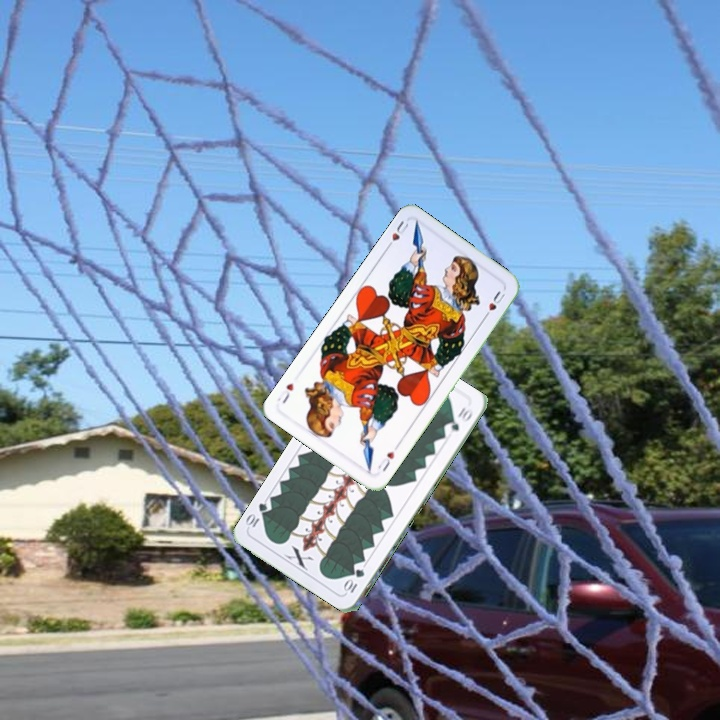G10: (341, 565, 367, 596)
HU: (382, 216, 412, 252), (374, 447, 397, 474)
